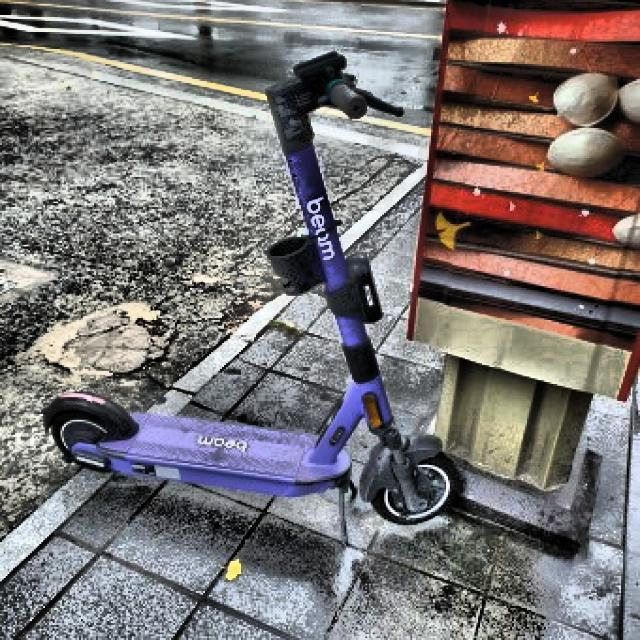bike: (39, 50, 461, 542)
